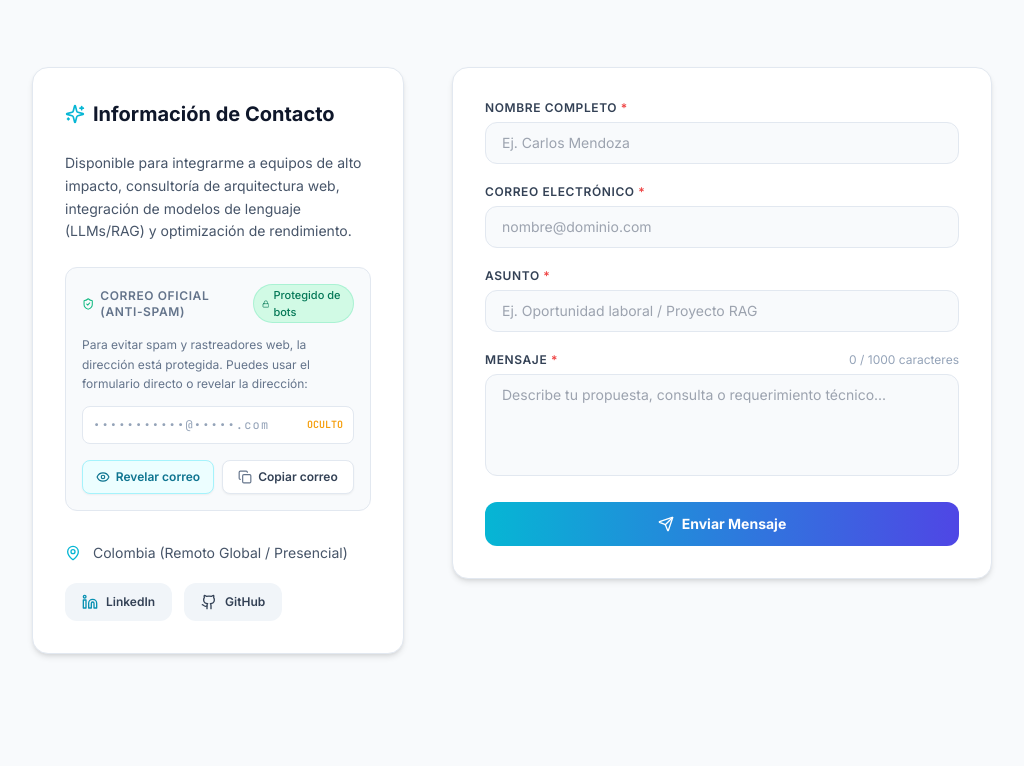
Test: QA Acceptance Suite - Jhon Fernando Rios Galindez Portfolio › 4. Functional Contact Module Validation & Submission Suite › flags all fields with contextual error messages upon empty form submission
(page scrolled)
Click the button with test id "contact-submit-button". click: (722, 524)
box: top-left (485, 502), bottom-right (959, 546)
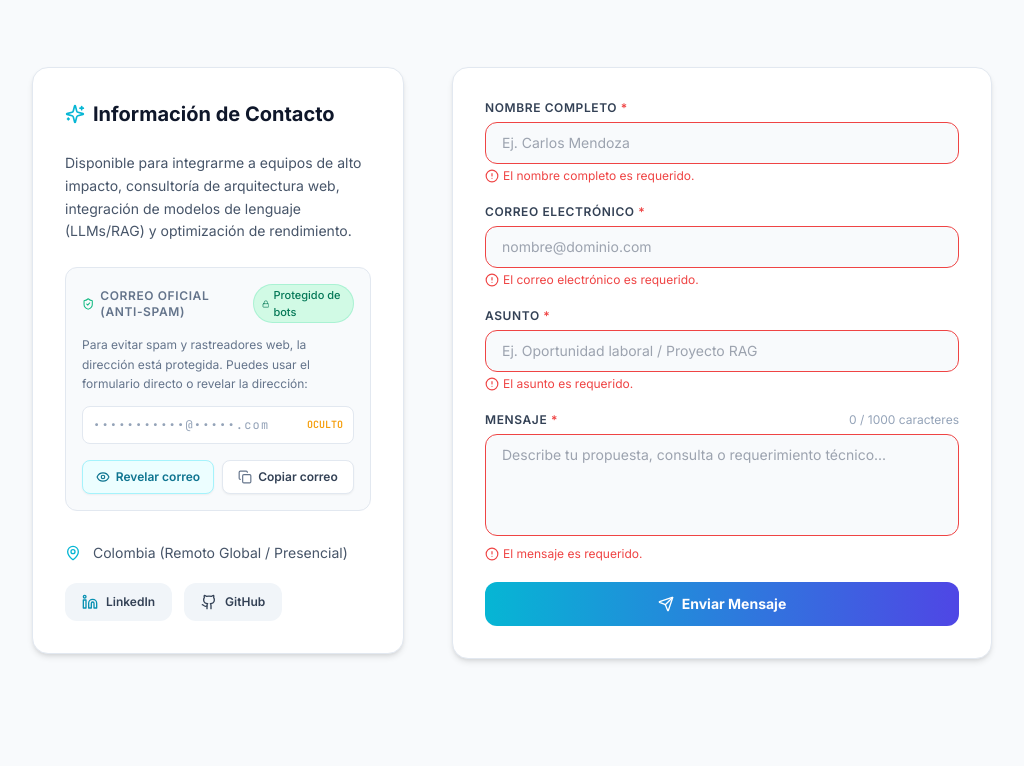
Check: the element with test id "error-name" reads "El nombre completo es requerido.", box top-left (503, 168), bottom-right (694, 183)
Check: the element with test id "error-email" reads "El correo electrónico es requerido.", box top-left (503, 272), bottom-right (699, 287)
Check: the element with test id "error-subject" reads "El asunto es requerido.", box top-left (503, 376), bottom-right (633, 391)
